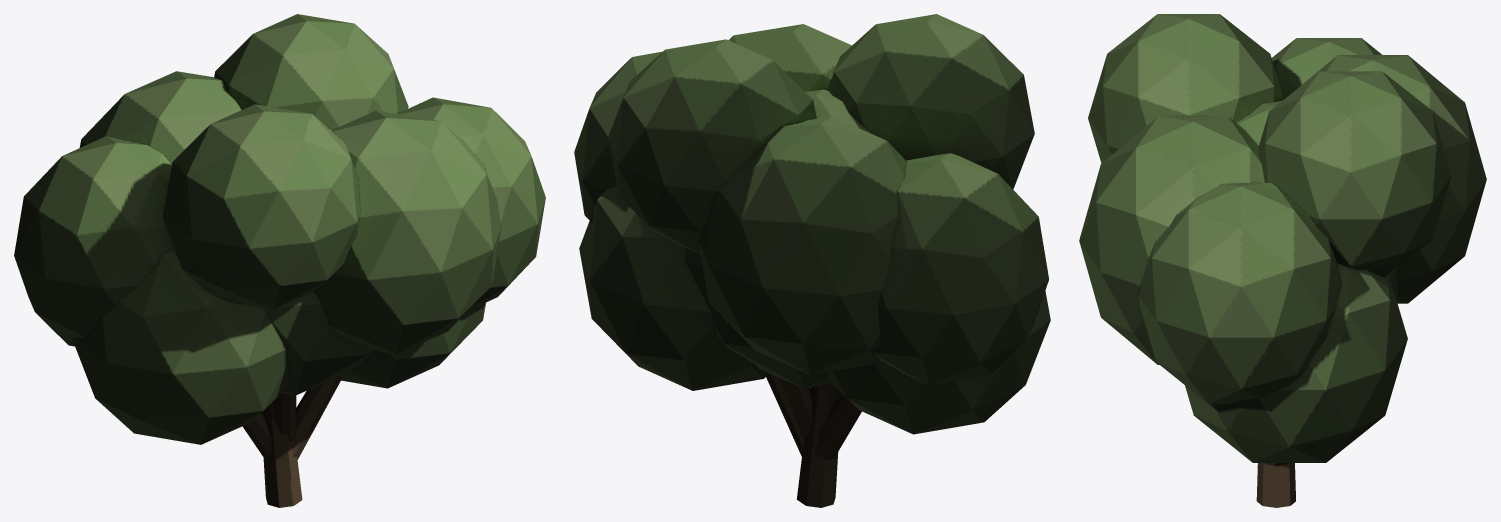
The model's file is 0-20261016-1900-ev059-r11-exterior-shrub_baked.glb.
3 renders of one model, left to right at view 1: azimuth 30°, elevation 25°; view 2: azimuth 150°, elevation 25°; view 3: azimuth 270°, elevation 25°, orthographic. The views are drawn at different scales.
Visible parts, largest first — view 1: SW_Exterior_Shrub; view 2: SW_Exterior_Shrub; view 3: SW_Exterior_Shrub.
Part boxes in pixels (x1,y1,x2,y2): SW_Exterior_Shrub: (14,14,545,507); SW_Exterior_Shrub: (574,14,1050,507); SW_Exterior_Shrub: (1079,14,1486,507).
Size of the model in its own units: 1.26 by 1.15 by 0.93.
Materials: 1 (1 with a texture image).
